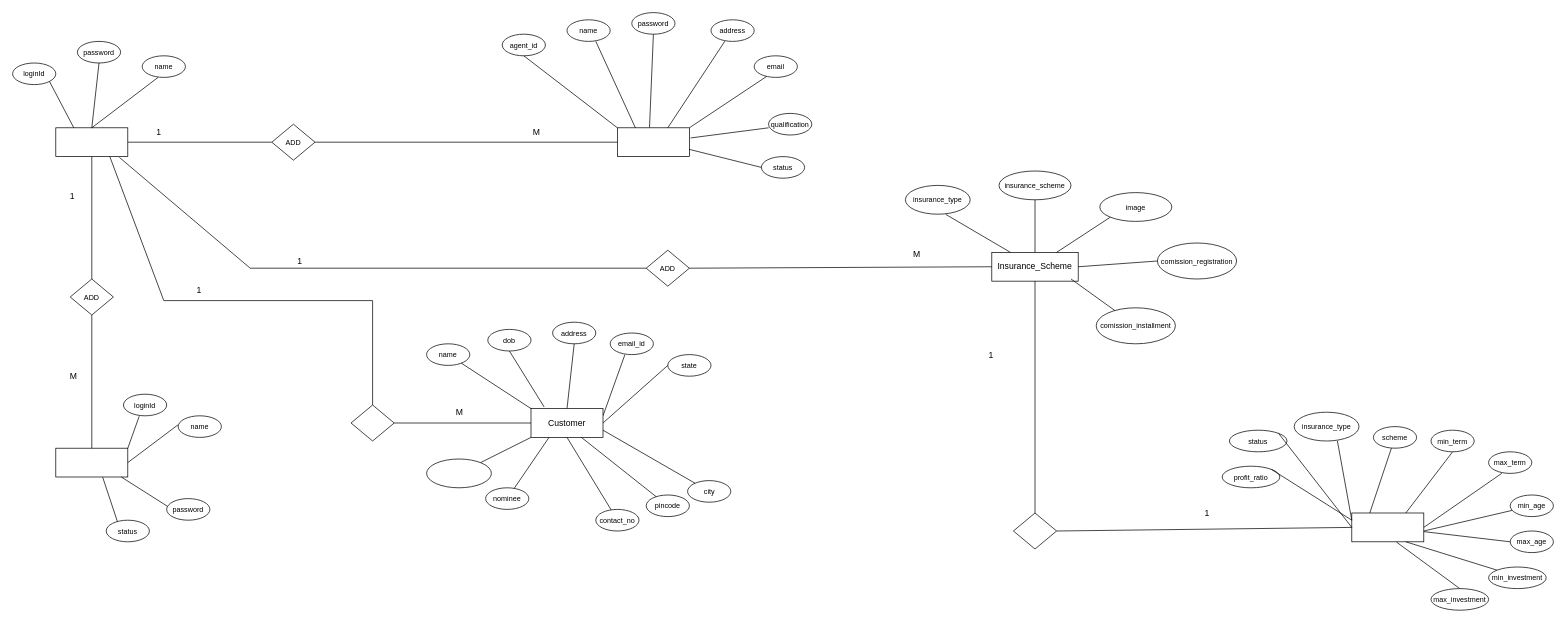
This 1566x623 diagram has some shape labels left out. Here are the shapes that lost their labels. From the top down, the box of each, then its label:
(55, 127, 128, 157): Admin
(617, 127, 689, 157): Agent
(350, 404, 394, 441): Manages
(55, 447, 128, 477): Employee
(426, 458, 491, 488): nominee_relation
(1013, 512, 1057, 549): Has
(1351, 512, 1424, 542): Plan
